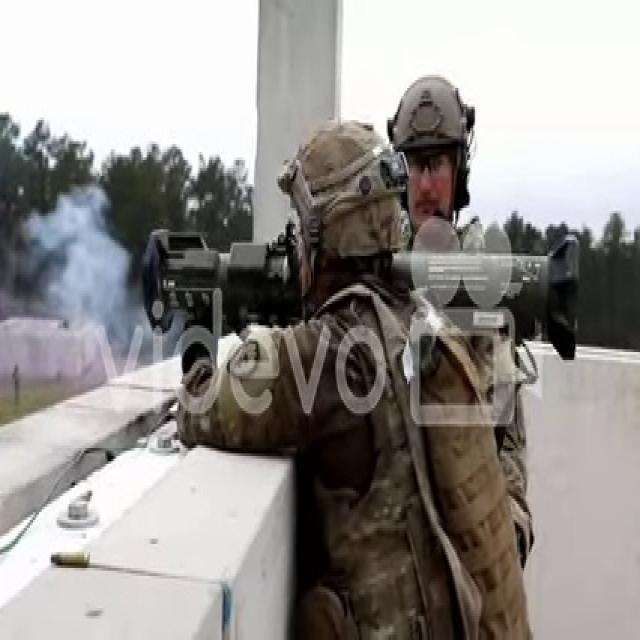bazooka: (141, 224, 588, 371)
